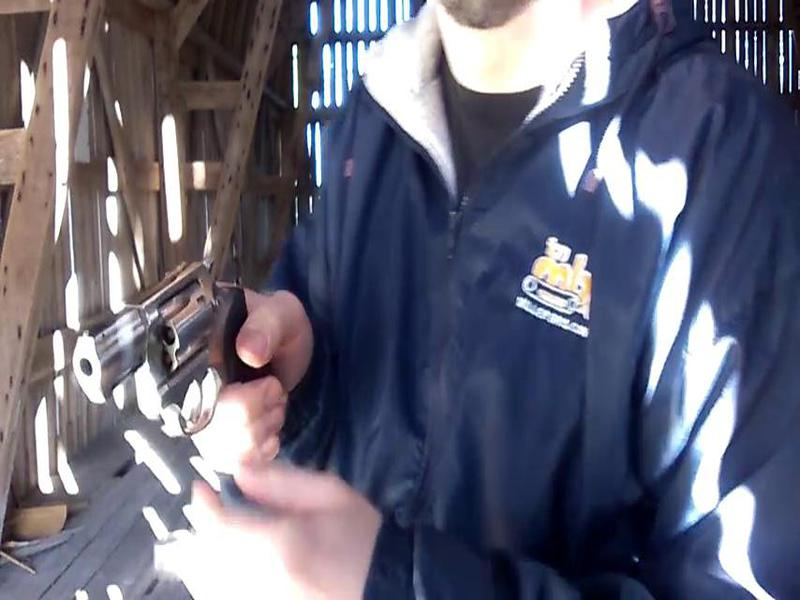Revolver: (75, 266, 281, 446)
